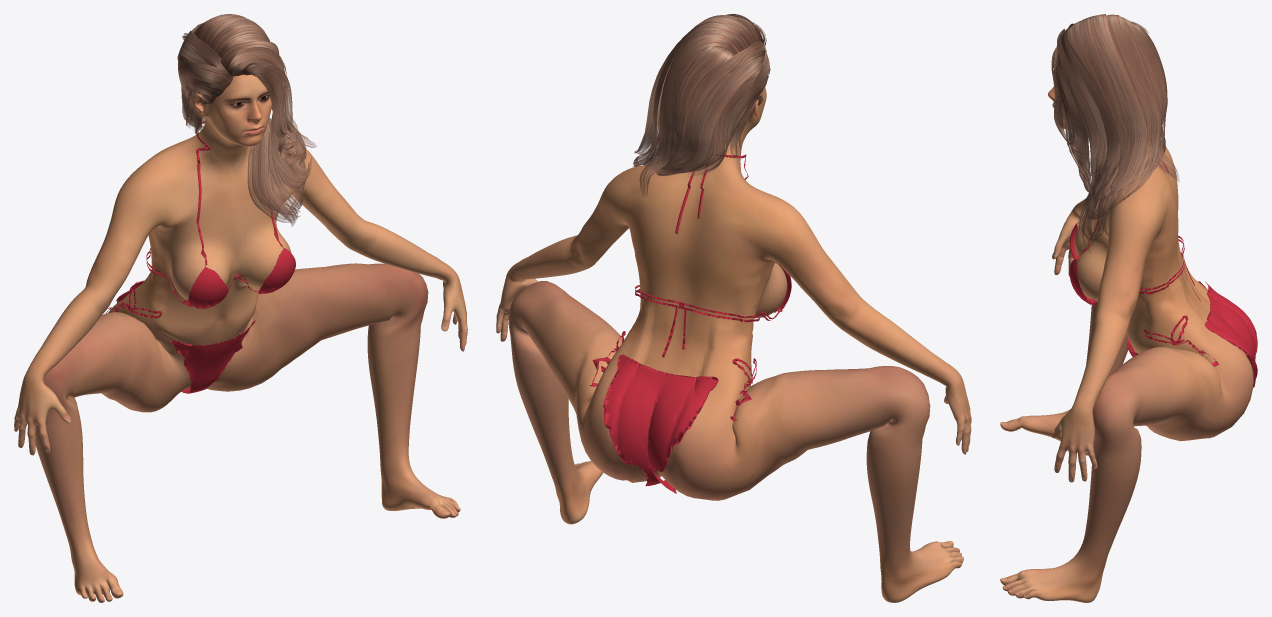
Rendered from female_squat_pulse_v4.glb.
3 renders of one model, left to right at view 1: azimuth 30°, elevation 25°; view 2: azimuth 150°, elevation 25°; view 3: azimuth 270°, elevation 25°, orthographic. The views are drawn at different scales.
Visible parts, largest first — view 1: Body, Body.elvs_adrienne_hair, Bikini; view 2: Body, Body.elvs_adrienne_hair, Bikini; view 3: Body, Body.elvs_adrienne_hair, Bikini.
Part boxes in pixels (x1,y1,x2,y2): Body: [14, 74, 467, 602]; Body.elvs_adrienne_hair: [177, 14, 316, 226]; Bikini: [105, 121, 295, 393]; Body: [496, 66, 971, 602]; Body.elvs_adrienne_hair: [632, 14, 770, 196]; Bikini: [590, 154, 791, 493]; Body: [1000, 87, 1253, 602]; Body.elvs_adrienne_hair: [1051, 14, 1179, 254]; Bikini: [1069, 161, 1257, 387].
Size of the model in its own units: 1.07 by 1.2 by 0.5492.
8 materials, 7 textured.
